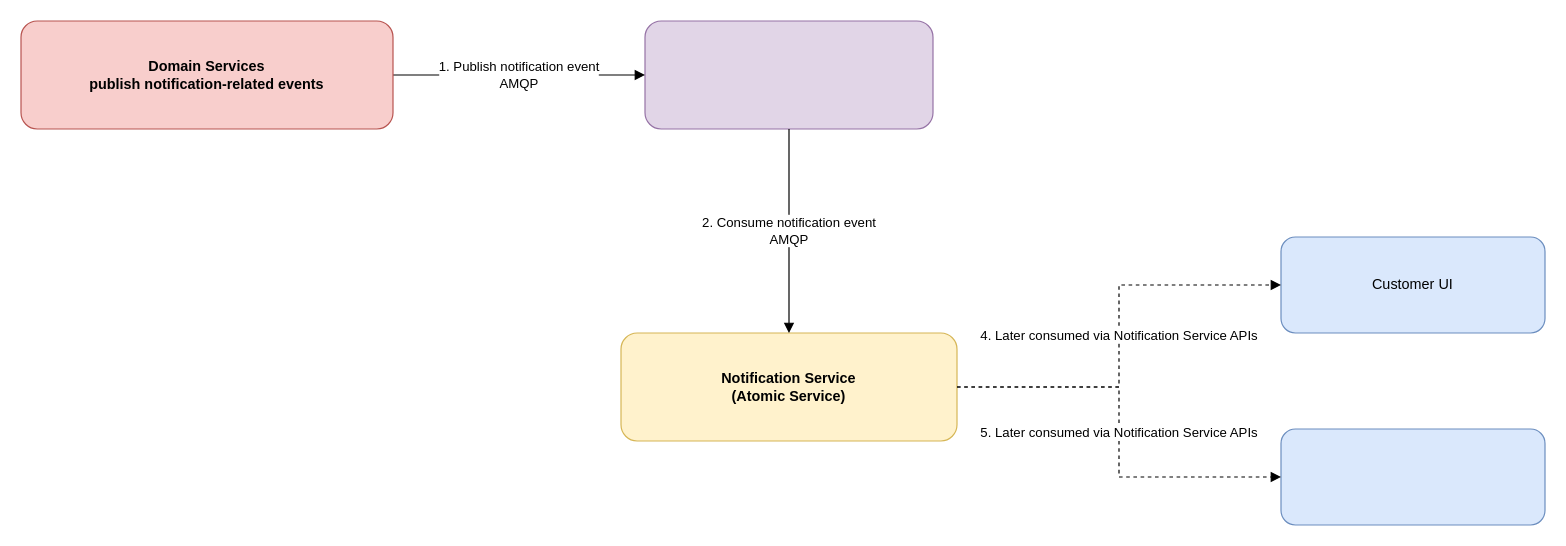
The diagram is 1566 pixels wide and 546 high, and some of its shapes have lost their labels. Each missing label, with the centre of its shape:
Ops UI: (1412,476)
RabbitMQ fleetshare.events: (788,74)
